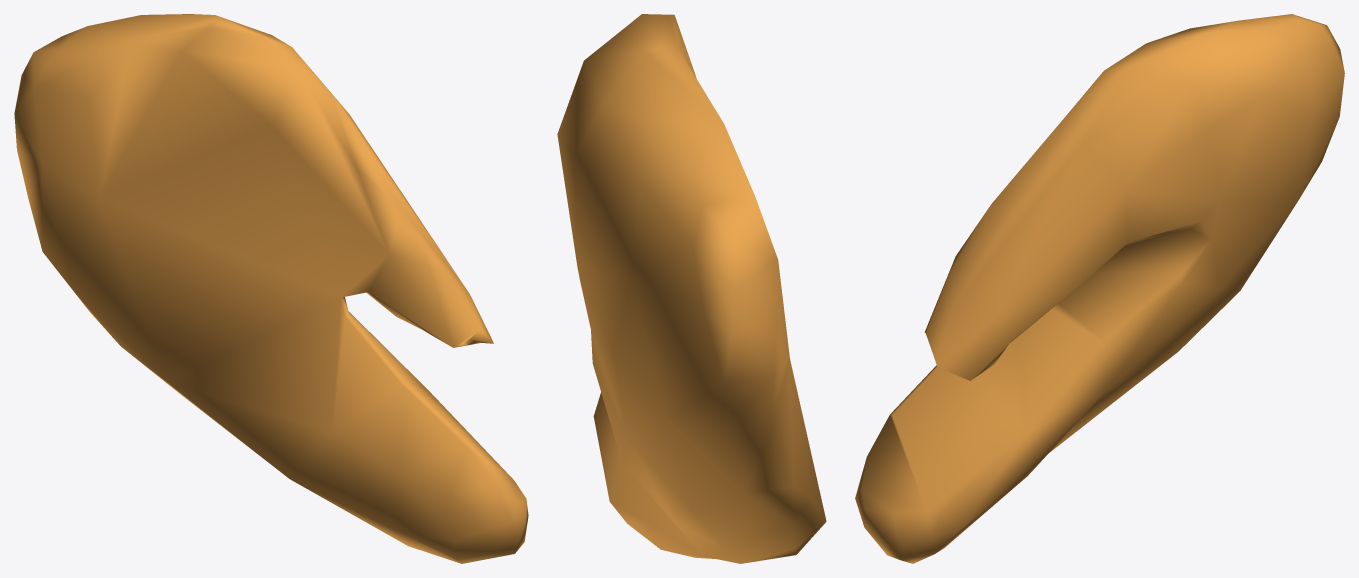
The model's file is visceras-submandibular-gland-r.glb.
3 views of the same model, side by side, from view 1: azimuth 30°, elevation 25°; view 2: azimuth 150°, elevation 25°; view 3: azimuth 270°, elevation 25° (orthographic). The views are drawn at different scales.
Parts seen in each view (by area): view 1: Submandibular gland.r; view 2: Submandibular gland.r; view 3: Submandibular gland.r.
Boxes of the visible parts, x1,y1,x2,y2 form: Submandibular gland.r: (14,14,528,563); Submandibular gland.r: (557,14,826,563); Submandibular gland.r: (855,14,1344,563).
Bounding box in the file's own units: 0.0157 × 0.0226 × 0.0217.
